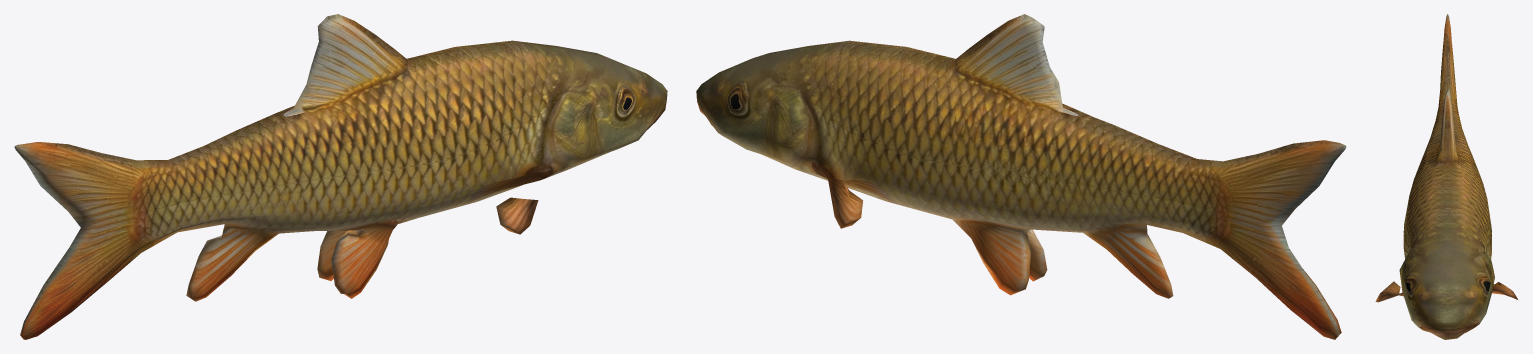
Rendered from kkeuri.glb.
3 views of the same model, side by side, from view 1: azimuth 30°, elevation 25°; view 2: azimuth 150°, elevation 25°; view 3: azimuth 270°, elevation 25° (orthographic). The views are drawn at different scales.
Visible parts, largest first — view 1: tripo_node_1fd710df; view 2: tripo_node_1fd710df; view 3: tripo_node_1fd710df.
Part boxes in pixels (x1=…): tripo_node_1fd710df: x1=14, y1=14, x2=667, y2=339; tripo_node_1fd710df: x1=696, y1=14, x2=1346, y2=339; tripo_node_1fd710df: x1=1375, y1=14, x2=1517, y2=339.
Size of the model in its own units: 97.73 by 39.95 by 25.14.
1 material, 1 textured.
